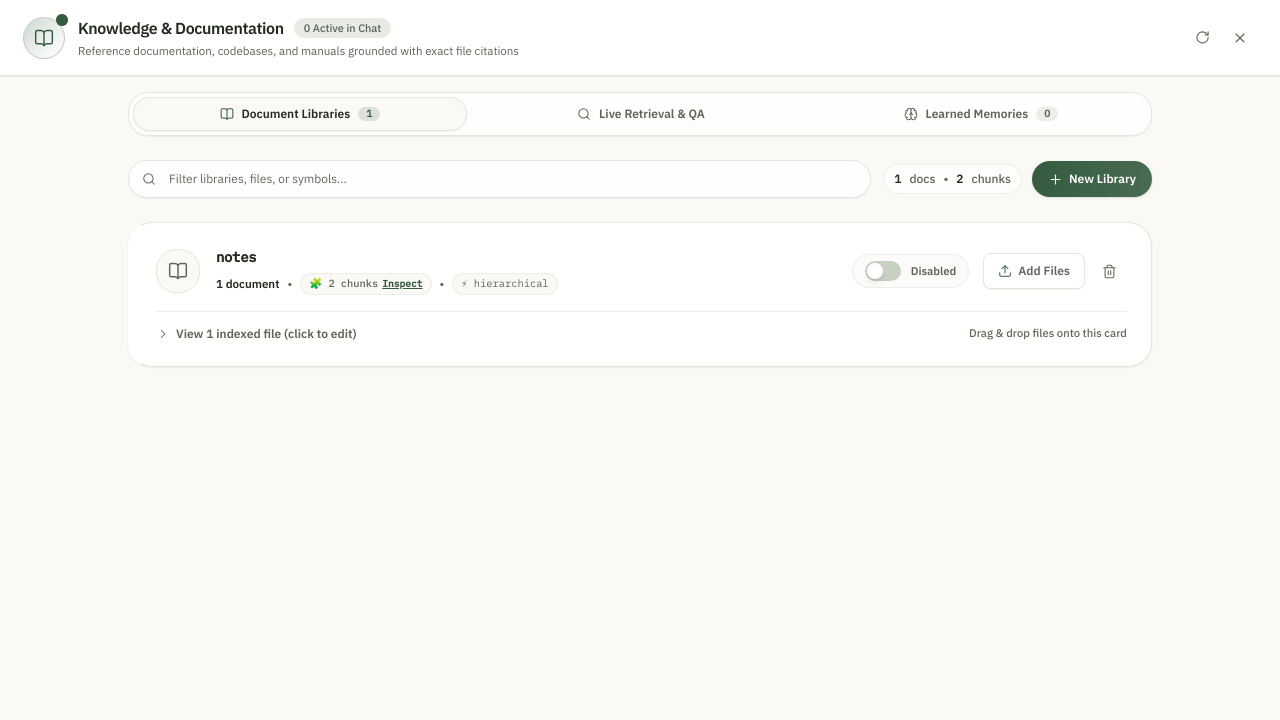
Test: knowledge chunk paging › shows passages from all server pages
Click the button titled "Inspect actual chunks and AST boundaries": (366, 284) [300,273,432,295]
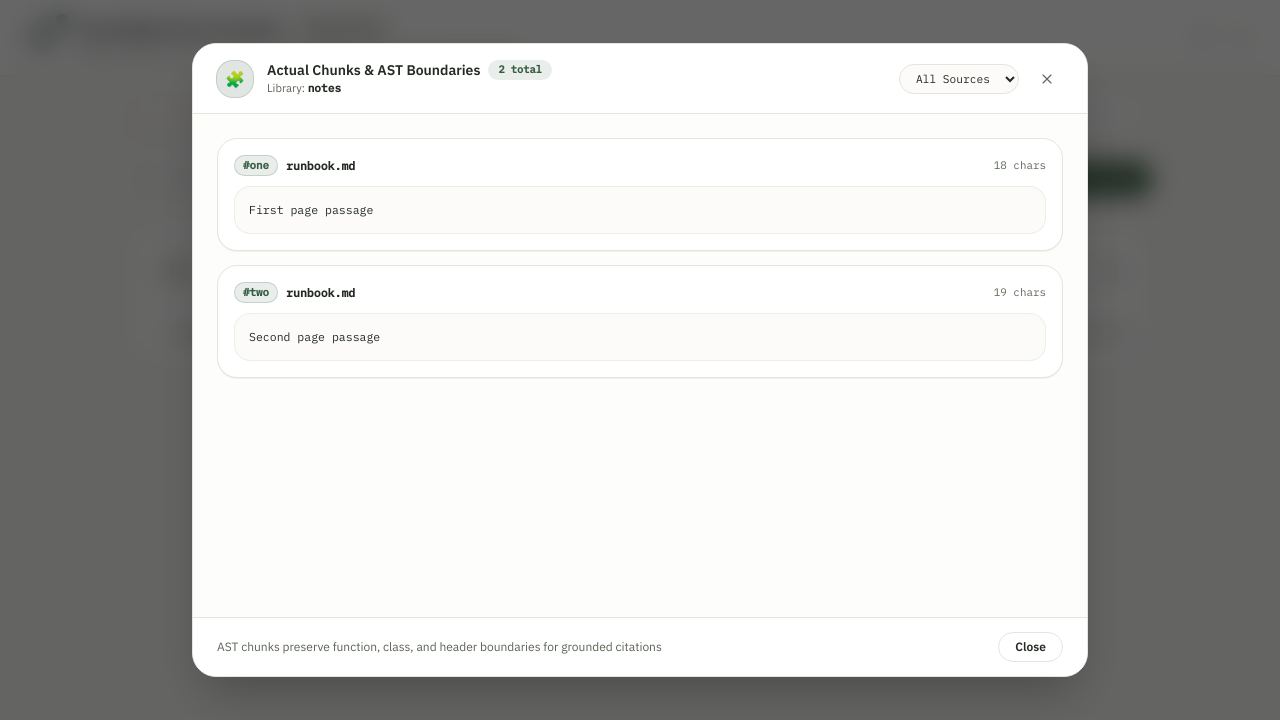
Now the text "Second page passage" is shown, box [234,313,1046,361]
Now the text "First page passage" is shown, box [234,186,1046,234]
